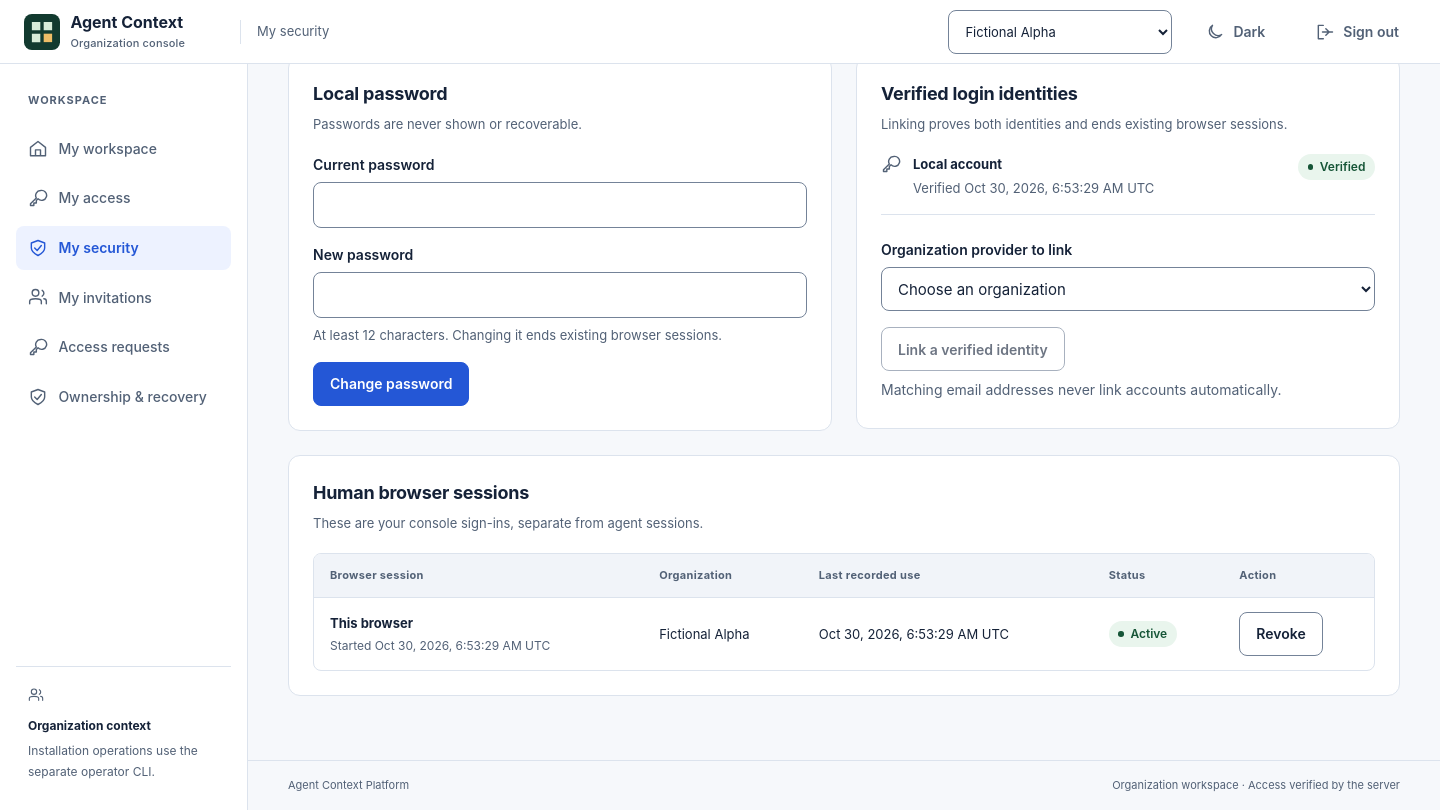
Test: personal security › shows only safe identity/session metadata and confirms current-session revocation
The width and height of the screenshot is (1440, 810).
(page scrolled)
Expected: the text "This browser" is shown, [330, 614, 413, 630]
Click the button with aria-label "Revoke this browser session" at (1281, 634), box [1239, 612, 1323, 656]
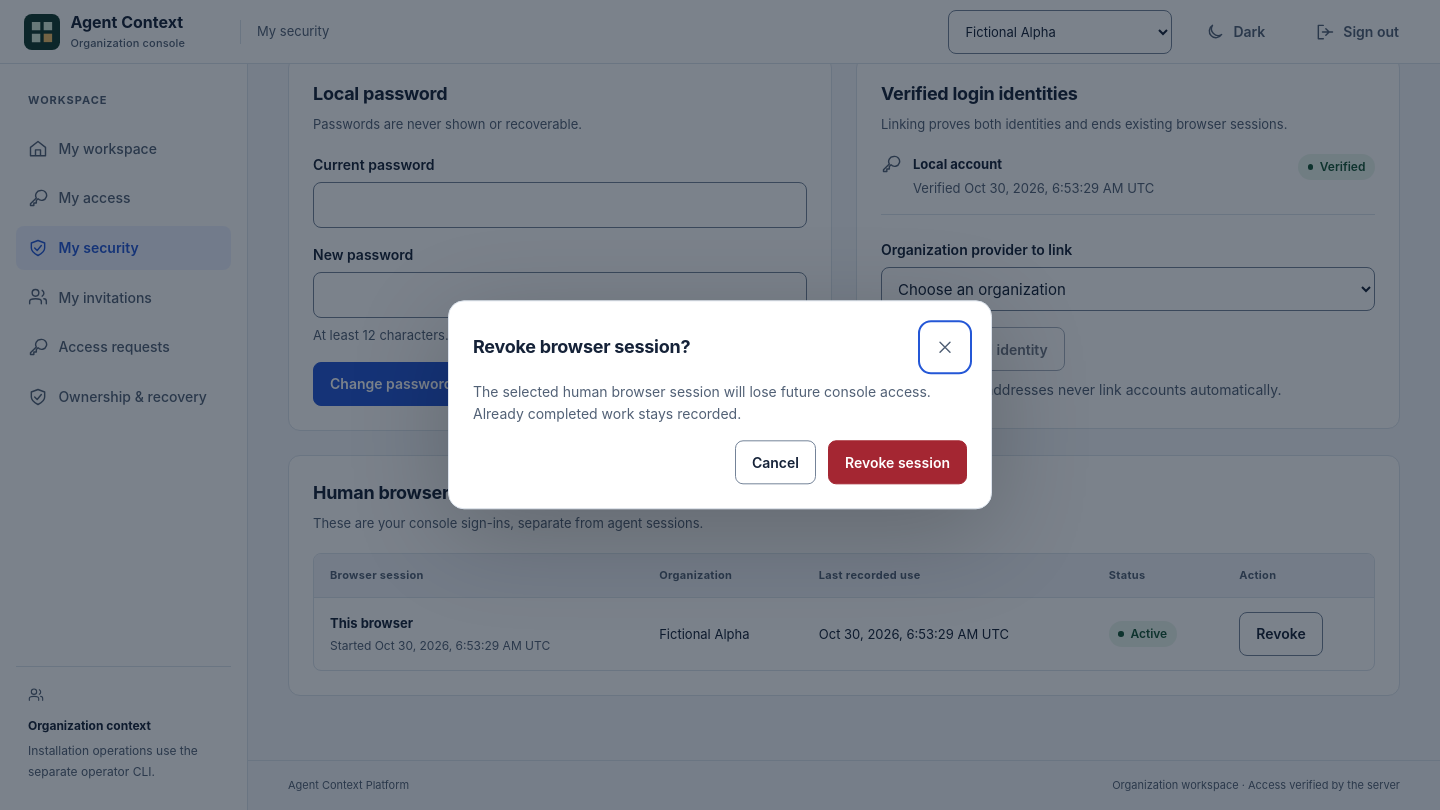
Click the button "Revoke session" at (898, 463), box [828, 441, 967, 485]
(page scrolled)
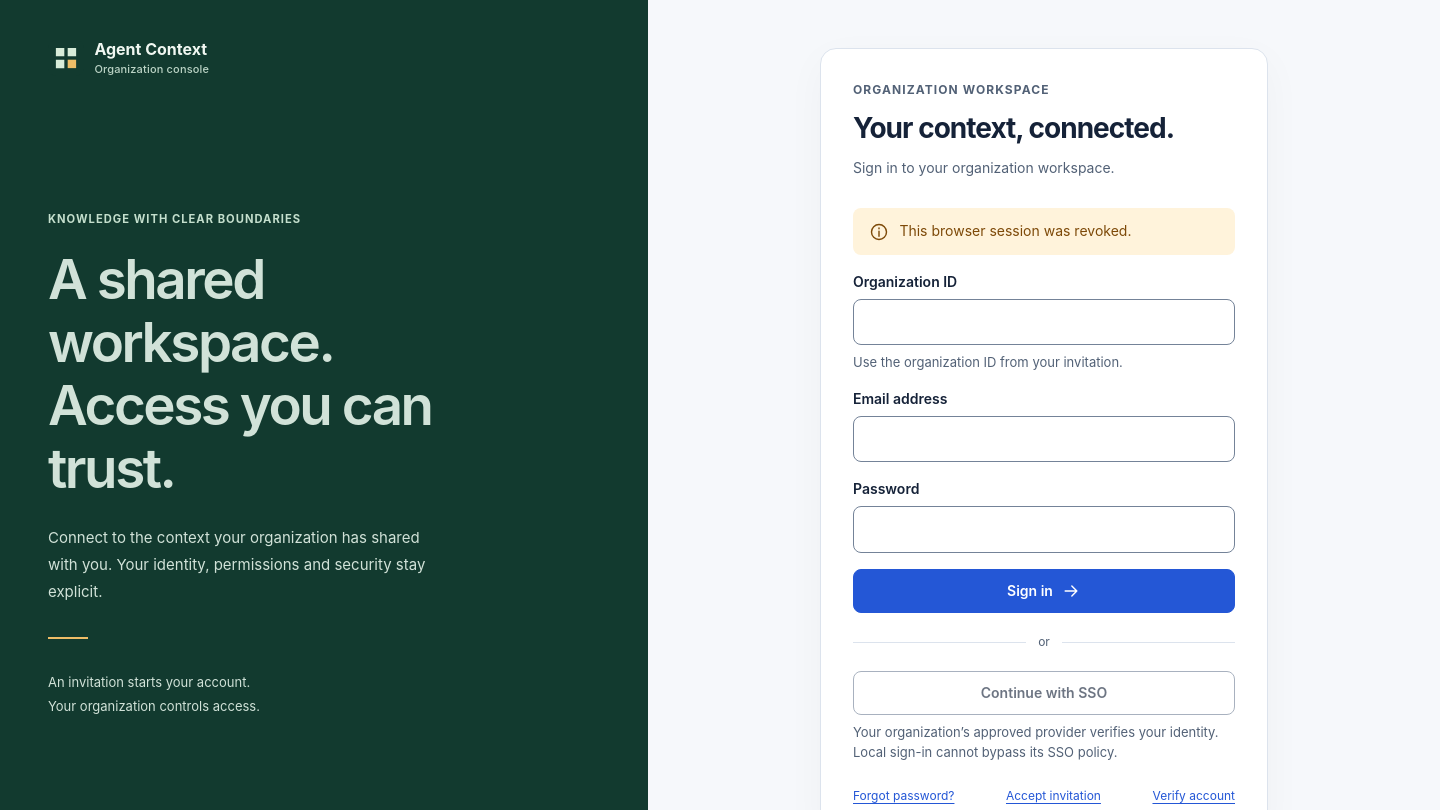
Expected: the text "This browser session was revoked." is shown, [899, 220, 1131, 242]
Expected: the text "My security" is gone
